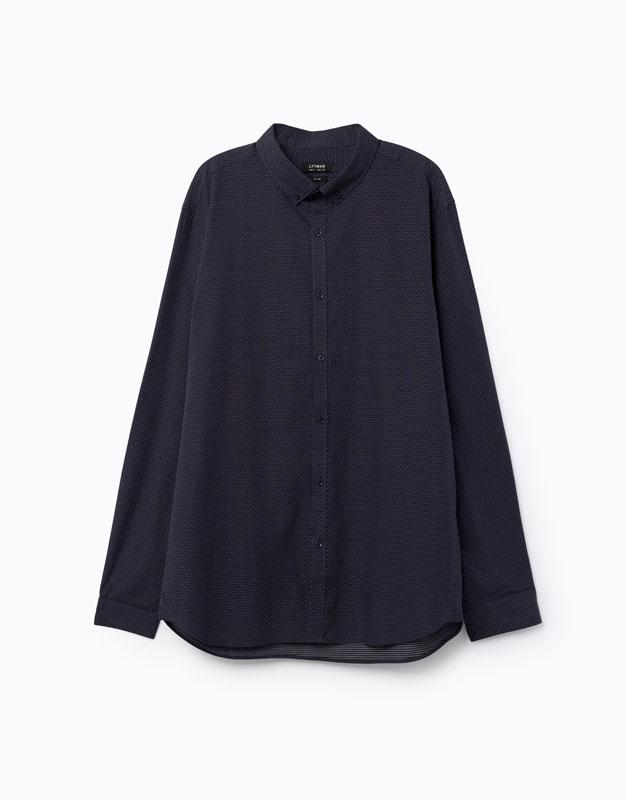teeshirt: (91, 124, 556, 657)
